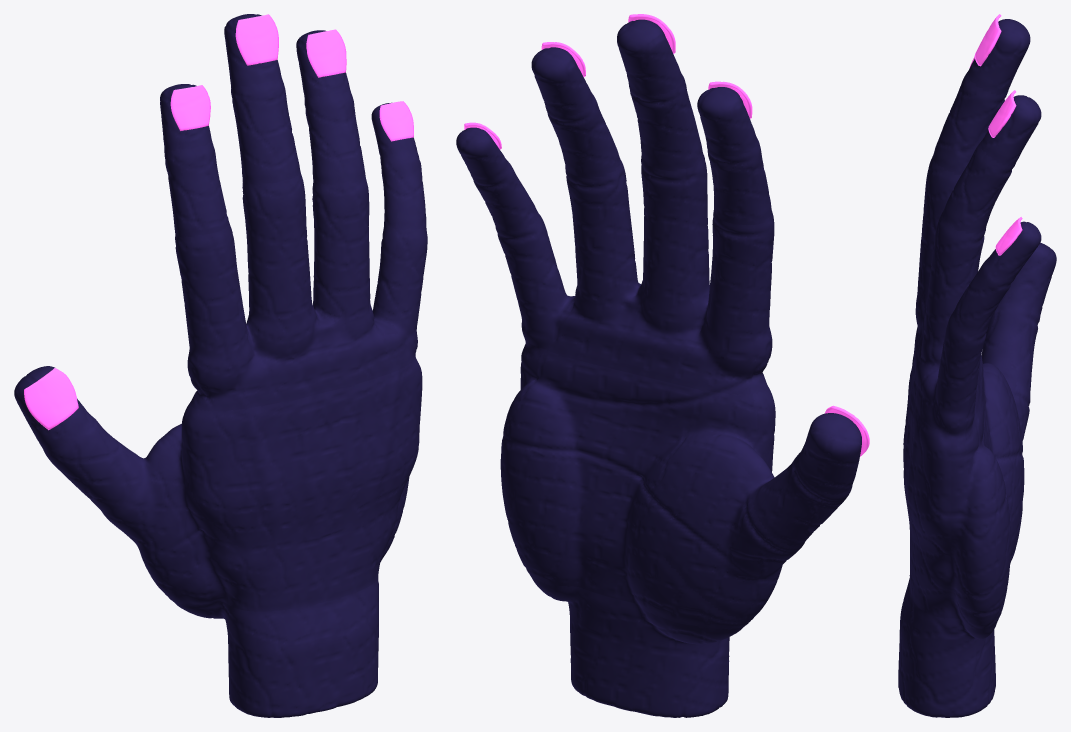
The model's file is family-19.glb.
3 renders of one model, left to right at view 1: azimuth 30°, elevation 25°; view 2: azimuth 150°, elevation 25°; view 3: azimuth 270°, elevation 25°, orthographic. The views are drawn at different scales.
Visible parts, largest first — view 1: knuckles__knuckles_sculpt, back_of_hand__back_of_hand_sculpt, middle_sections__middle_sections_sculpt, wrist__wrist_sculpt, fingertips__fingertips_sculpt, palm__palm_sculpt, nails__thumb_claw, nails__middle_claw, nails__ring_claw, nails__index_claw, nails__pinky_claw; view 2: knuckles__knuckles_sculpt, palm__palm_sculpt, middle_sections__middle_sections_sculpt, wrist__wrist_sculpt, fingertips__fingertips_sculpt; view 3: palm__palm_sculpt, knuckles__knuckles_sculpt, middle_sections__middle_sections_sculpt, wrist__wrist_sculpt, back_of_hand__back_of_hand_sculpt, fingertips__fingertips_sculpt, nails__middle_claw, nails__ring_claw, nails__pinky_claw.
Boxes of the visible parts, x1,y1,x2,y2 form: knuckles__knuckles_sculpt: (101,172,427,594); back_of_hand__back_of_hand_sculpt: (184,355,422,612); middle_sections__middle_sections_sculpt: (43,78,426,512); wrist__wrist_sculpt: (175,558,382,717); fingertips__fingertips_sculpt: (14,14,417,451); palm__palm_sculpt: (164,401,409,604); nails__thumb_claw: (24,368,78,430); nails__middle_claw: (235,14,278,65); nails__ring_claw: (306,29,346,77); nails__index_claw: (170,85,210,130); nails__pinky_claw: (379,101,413,141); knuckles__knuckles_sculpt: (495,153,805,620); palm__palm_sculpt: (500,340,771,629); middle_sections__middle_sections_sculpt: (471,73,852,546); wrist__wrist_sculpt: (530,575,742,717); fingertips__fingertips_sculpt: (456,19,861,494); palm__palm_sculpt: (949,355,1022,630); knuckles__knuckles_sculpt: (912,155,1030,500); middle_sections__middle_sections_sculpt: (933,71,1040,392); wrist__wrist_sculpt: (898,564,1010,717); back_of_hand__back_of_hand_sculpt: (903,368,951,618); fingertips__fingertips_sculpt: (968,19,1056,314); nails__middle_claw: (974,14,1001,66); nails__ring_claw: (988,90,1016,137); nails__pinky_claw: (995,217,1022,255).
Size of the model in its own units: 0.1313 by 0.2171 by 0.0475.
2 materials, 1 textured.
